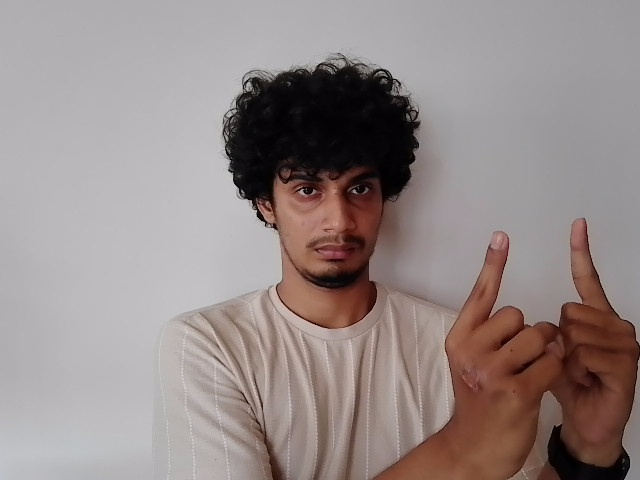play: (443, 216, 640, 436)
